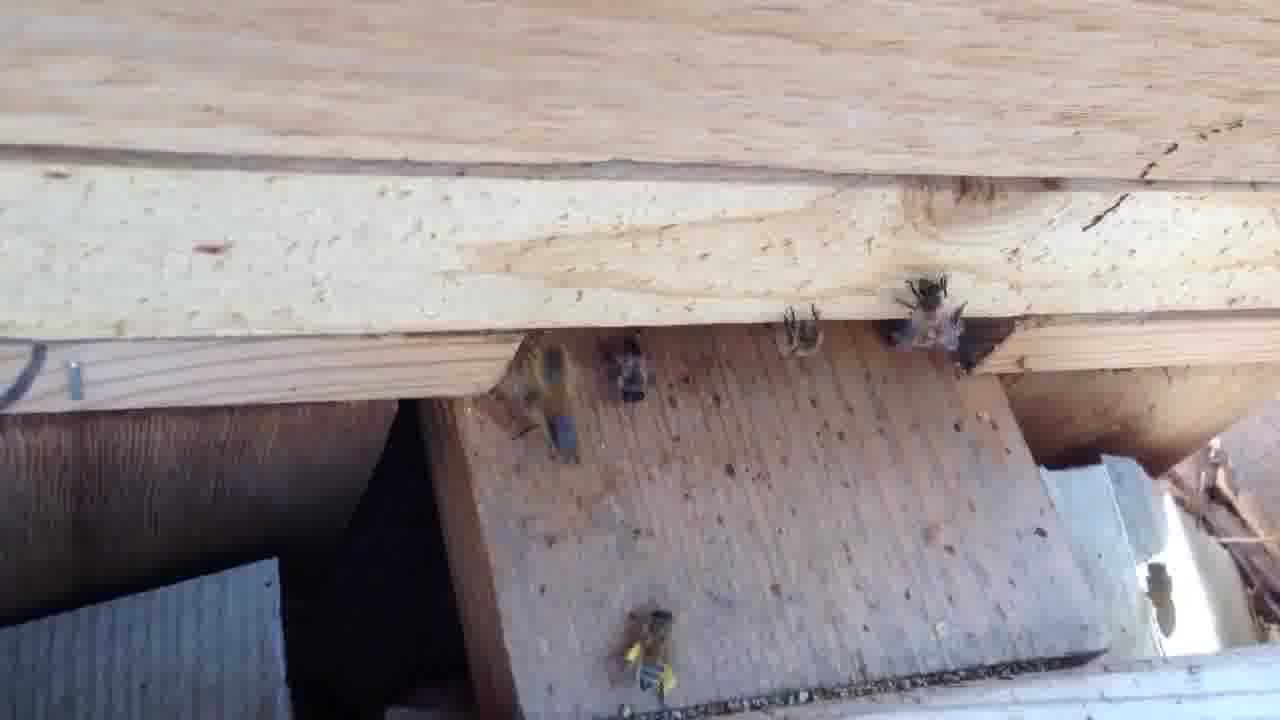pollen: (625, 607, 686, 707)
